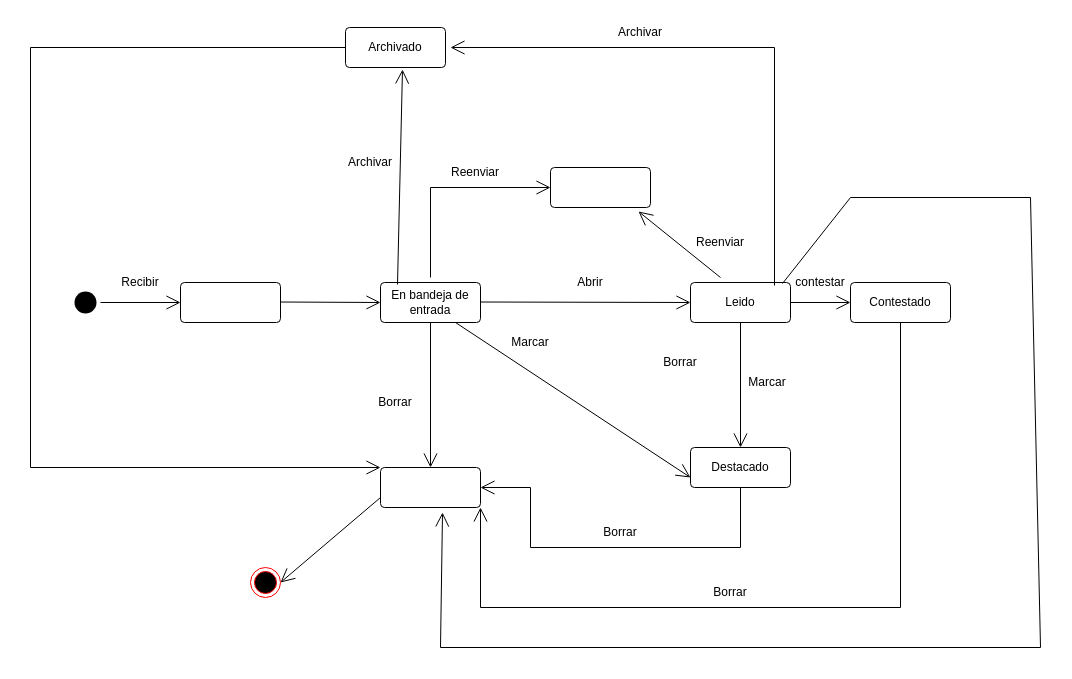
This 1072x679 diagram has some shape labels left out. The centre of each missing label's shape, as x and y in pixels:
"Eliminado" goes at point 430,487.
"Recibido" goes at point 230,302.
"Reenviado" goes at point 600,187.
